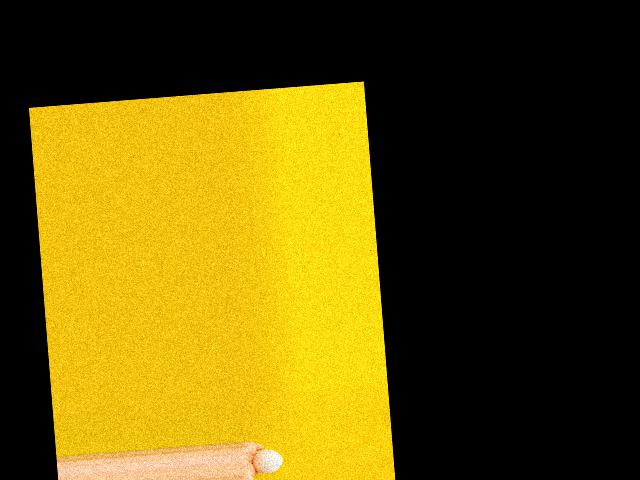egg: (251, 448, 283, 473)
